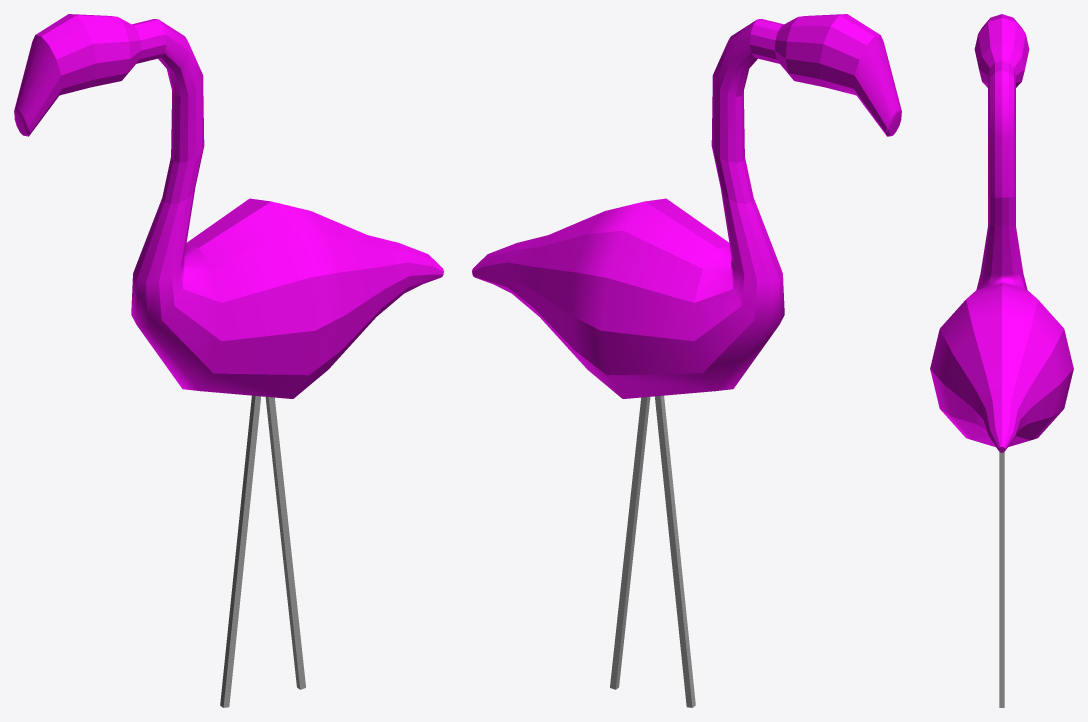
File: asset_flamingo.fbx
3 views of the same model, side by side, from view 1: azimuth 30°, elevation 25°; view 2: azimuth 150°, elevation 25°; view 3: azimuth 270°, elevation 25° (orthographic). The views are drawn at different scales.
Parts seen in each view (by area): view 1: pCylinder1, pCube3; view 2: pCylinder1, pCube3; view 3: pCylinder1, pCube3.
Boxes of the visible parts, x1,y1,x2,y2 form: pCylinder1: [14, 14, 443, 398]; pCube3: [220, 395, 305, 707]; pCylinder1: [472, 14, 901, 398]; pCube3: [610, 395, 695, 707]; pCylinder1: [930, 14, 1073, 452]; pCube3: [999, 452, 1004, 707].
Bounding box in the file's own units: 8.86 × 14.5 × 3.15.
